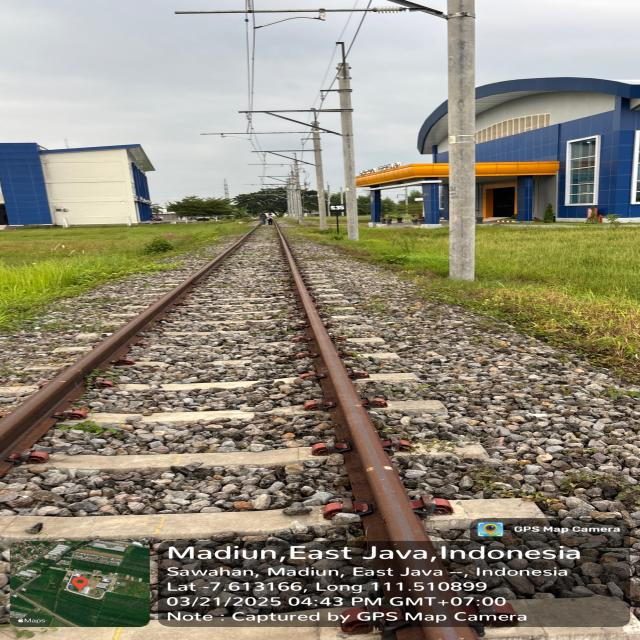rail-detection: (280, 233, 477, 640), (0, 231, 254, 474)
